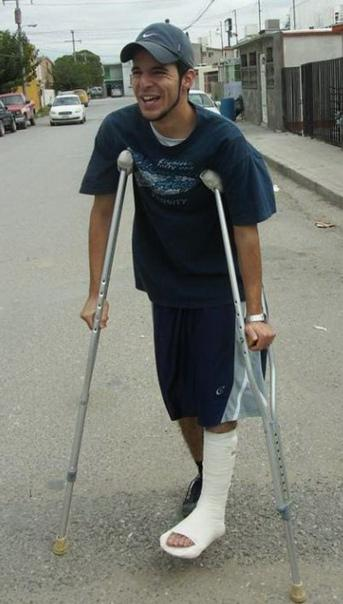crutches: (52, 22, 308, 604)
